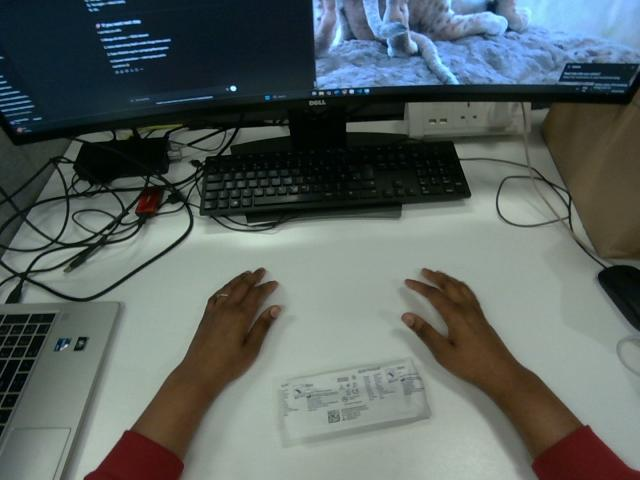syringe: (279, 359, 429, 442)
